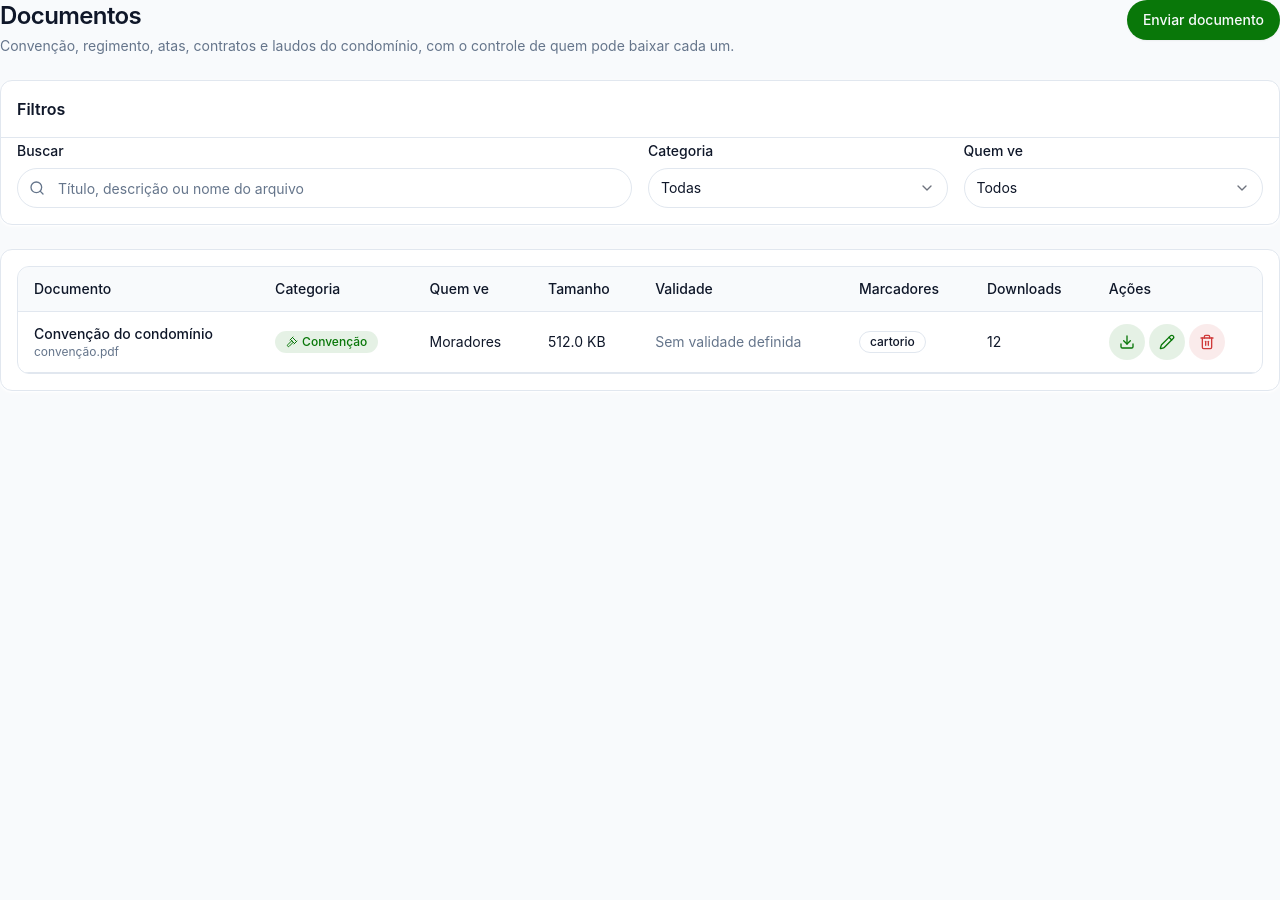
Exclusao definitiva › avisa que não ha volta antes de excluir
The width and height of the screenshot is (1280, 900).
Click the button named "Excluir Convenção do condomínio": (1207, 342) [1189,324,1225,360]
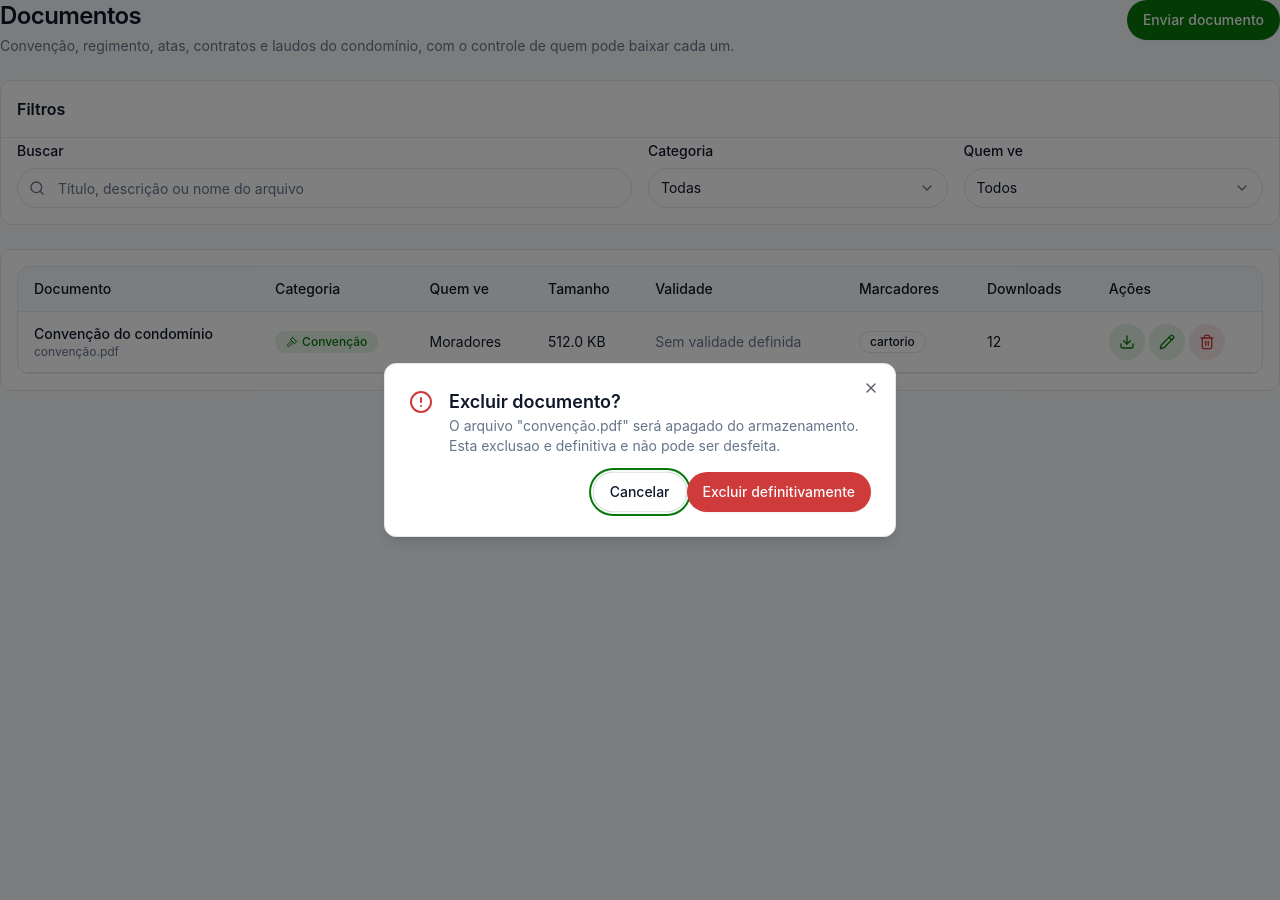
Expected: the text "definitiva e não pode ser desfeita" is shown, [449,417,859,454]
Click the button "Excluir definitivamente": (779, 492) [686,472,871,512]
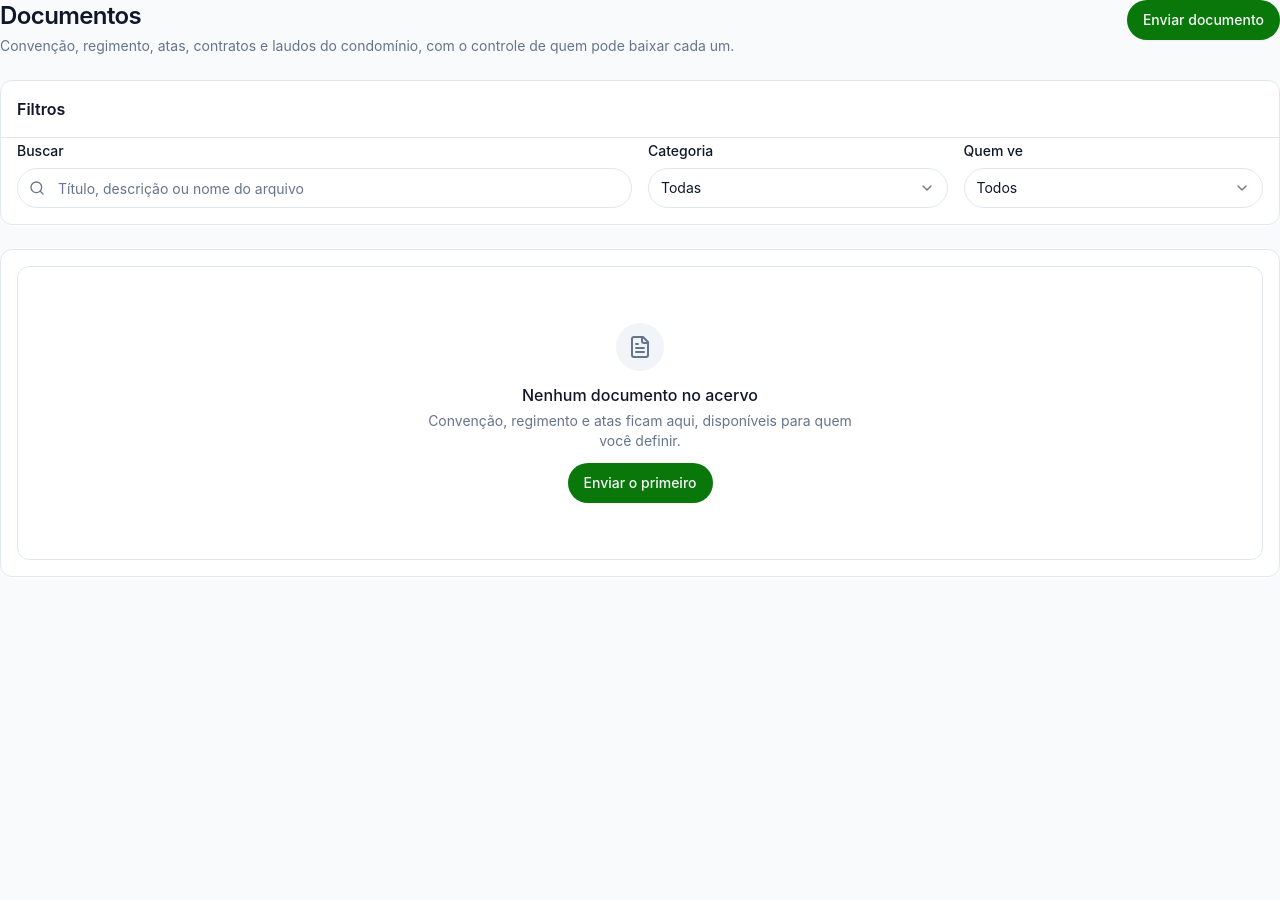
Expected: the text "Nenhum documento no acervo" is shown, [522,385,758,405]
